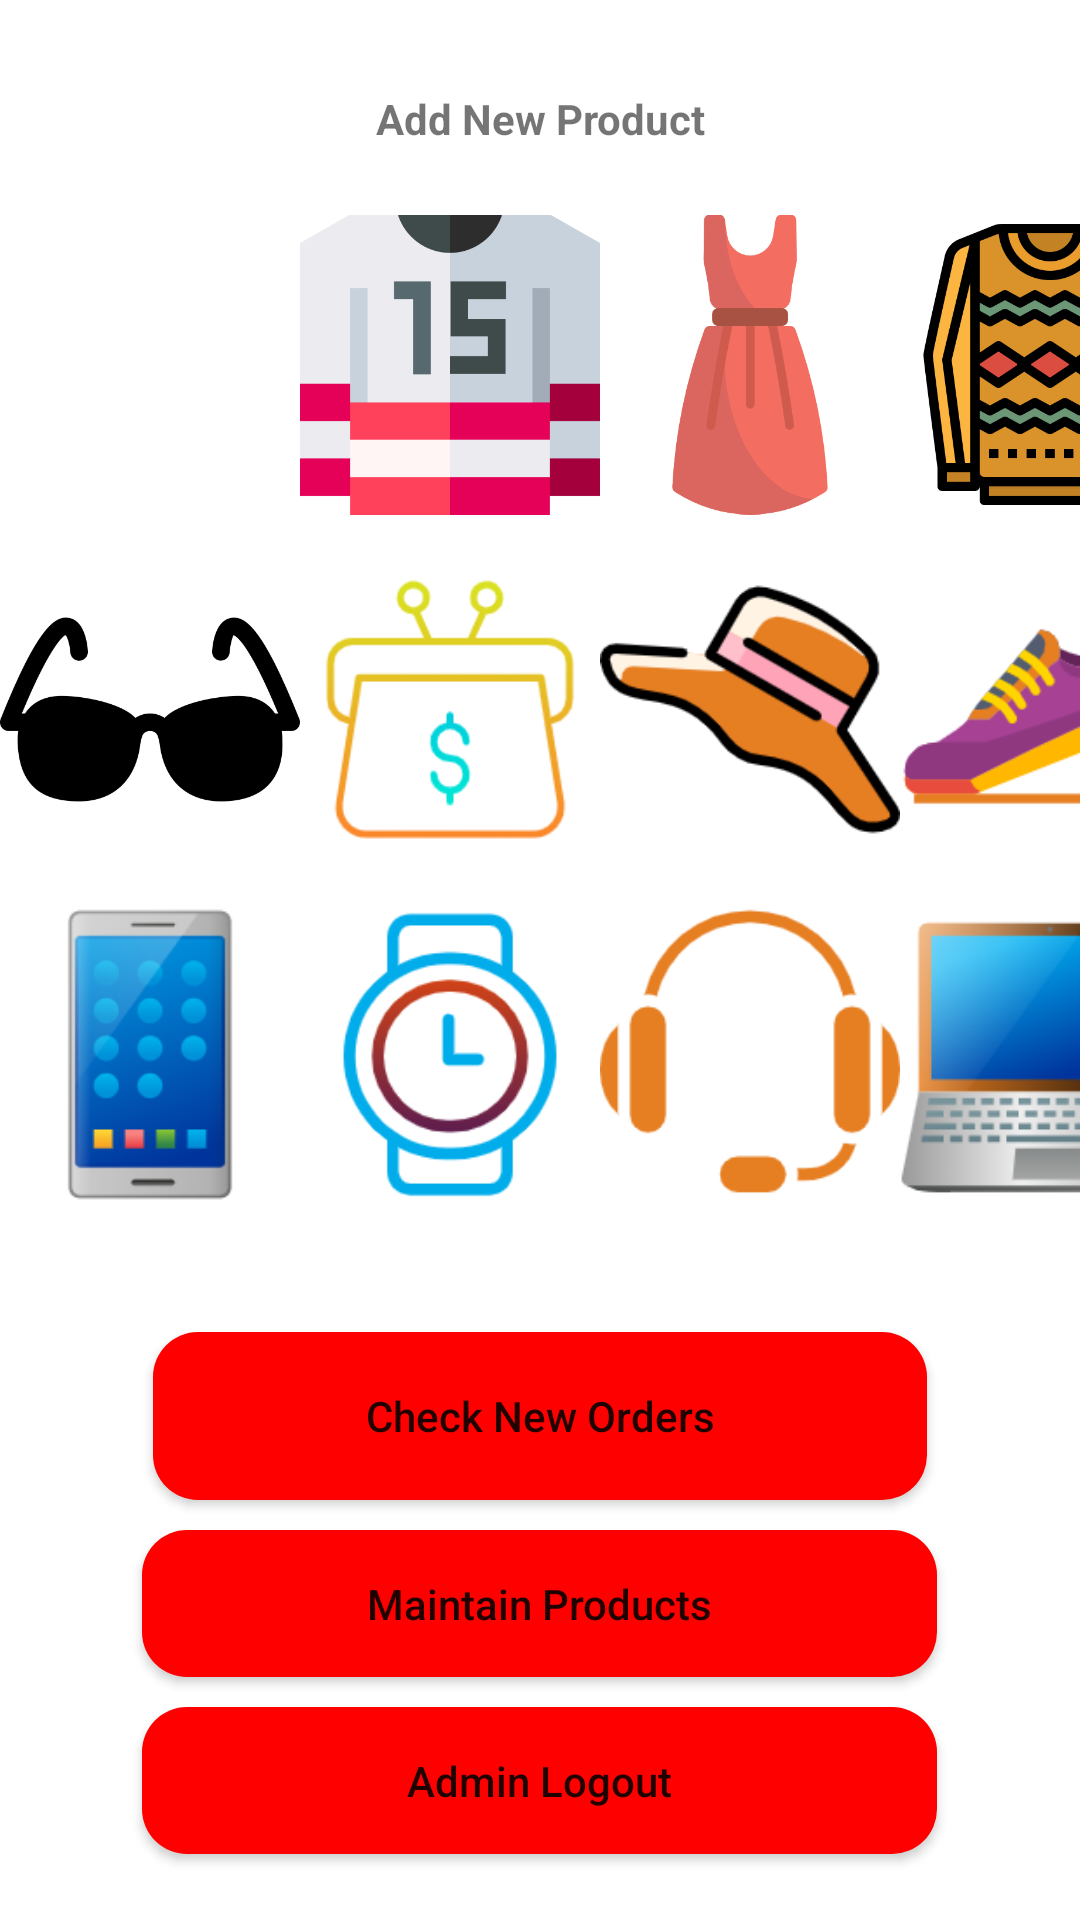

Named icons in this screenshot (1080px×1920px) and their centers, [x,y]:
dress: [750,365]
earphone: [750,1051]
hat: [750,709]
mobile: [150,1054]
pursers: [450,709]
sporttshirt: [450,365]
sunglasses: [150,709]
watch: [450,1054]
